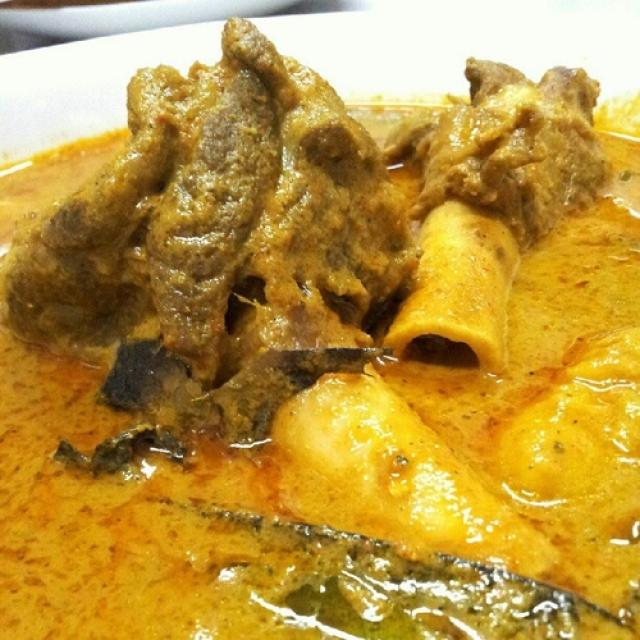熟制海鲜: (13, 23, 626, 613)
